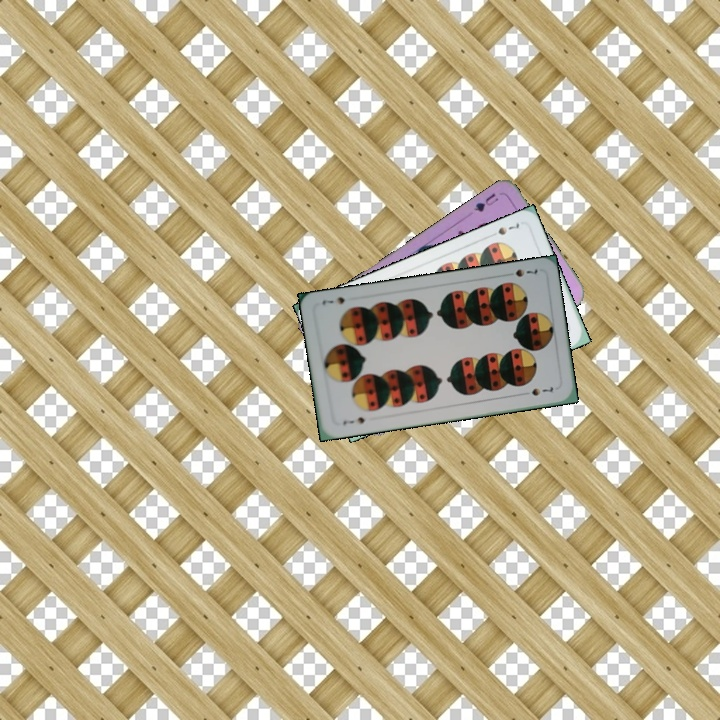GU: (470, 189, 501, 216)
S7: (494, 218, 522, 238), (511, 265, 540, 280), (339, 413, 367, 427)
